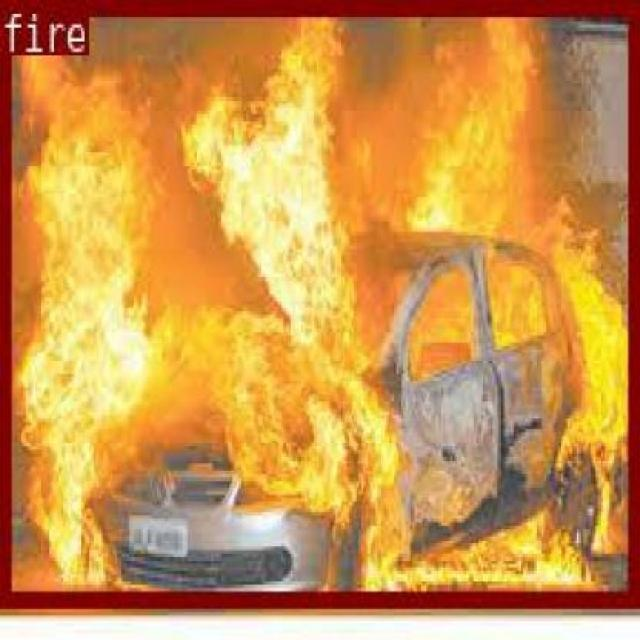Fire: (0, 0, 635, 601)
